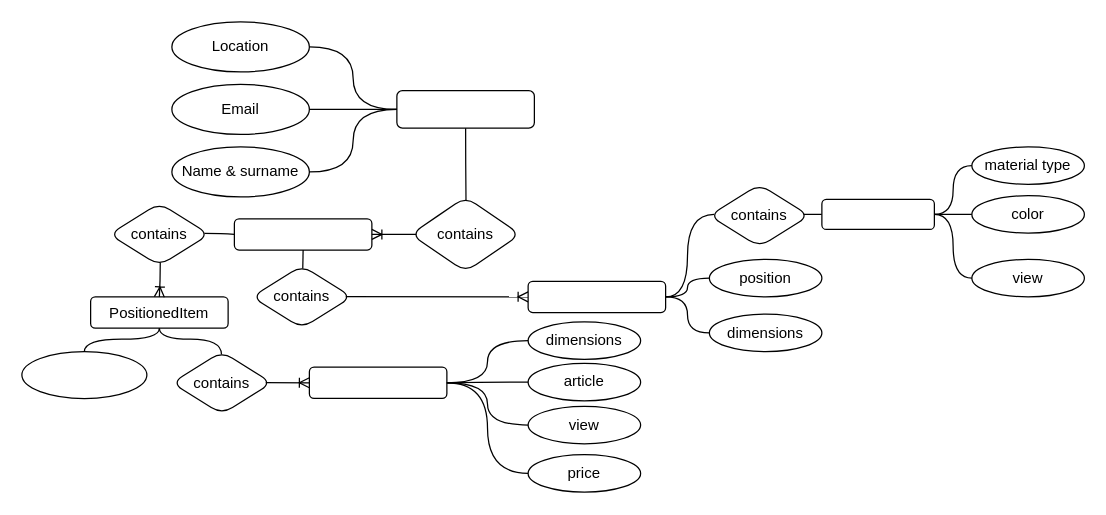
This 1106x515 diagram has some shape labels left out. Here are the shapes that lost their labels. From the top down, the centre of each, then its label:
(x=465, y=108): User
(x=877, y=213): Material
(x=302, y=234): Layout
(x=596, y=296): Wall
(x=84, y=374): Position data
(x=377, y=382): Item
